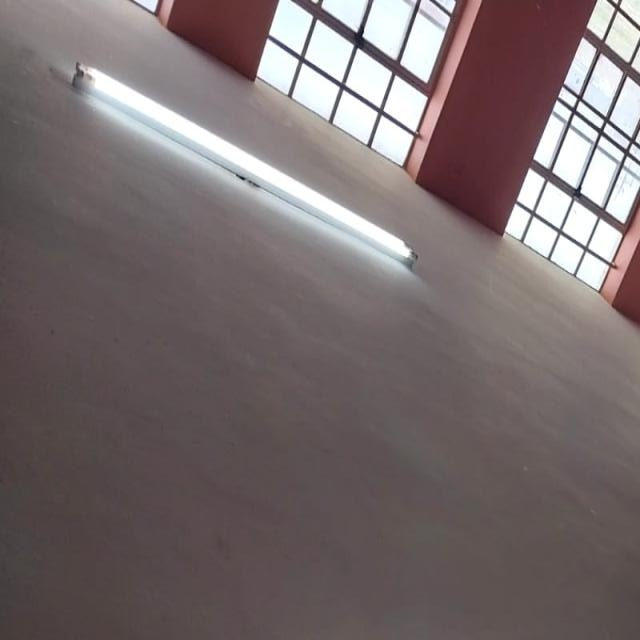fluorescent tube: (56, 50, 436, 282)
